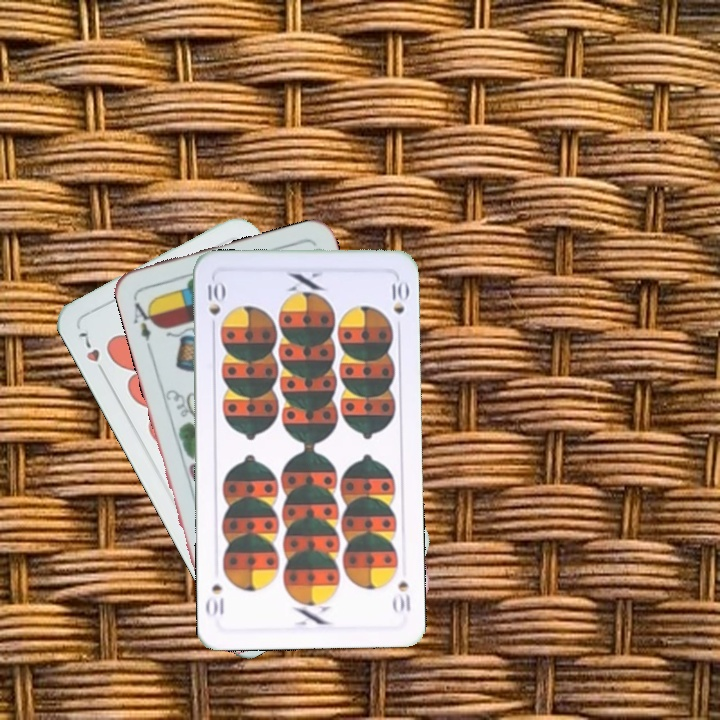EA: (129, 298, 159, 352)
H7: (74, 324, 109, 379)
S10: (389, 577, 414, 616), (204, 275, 225, 318)
